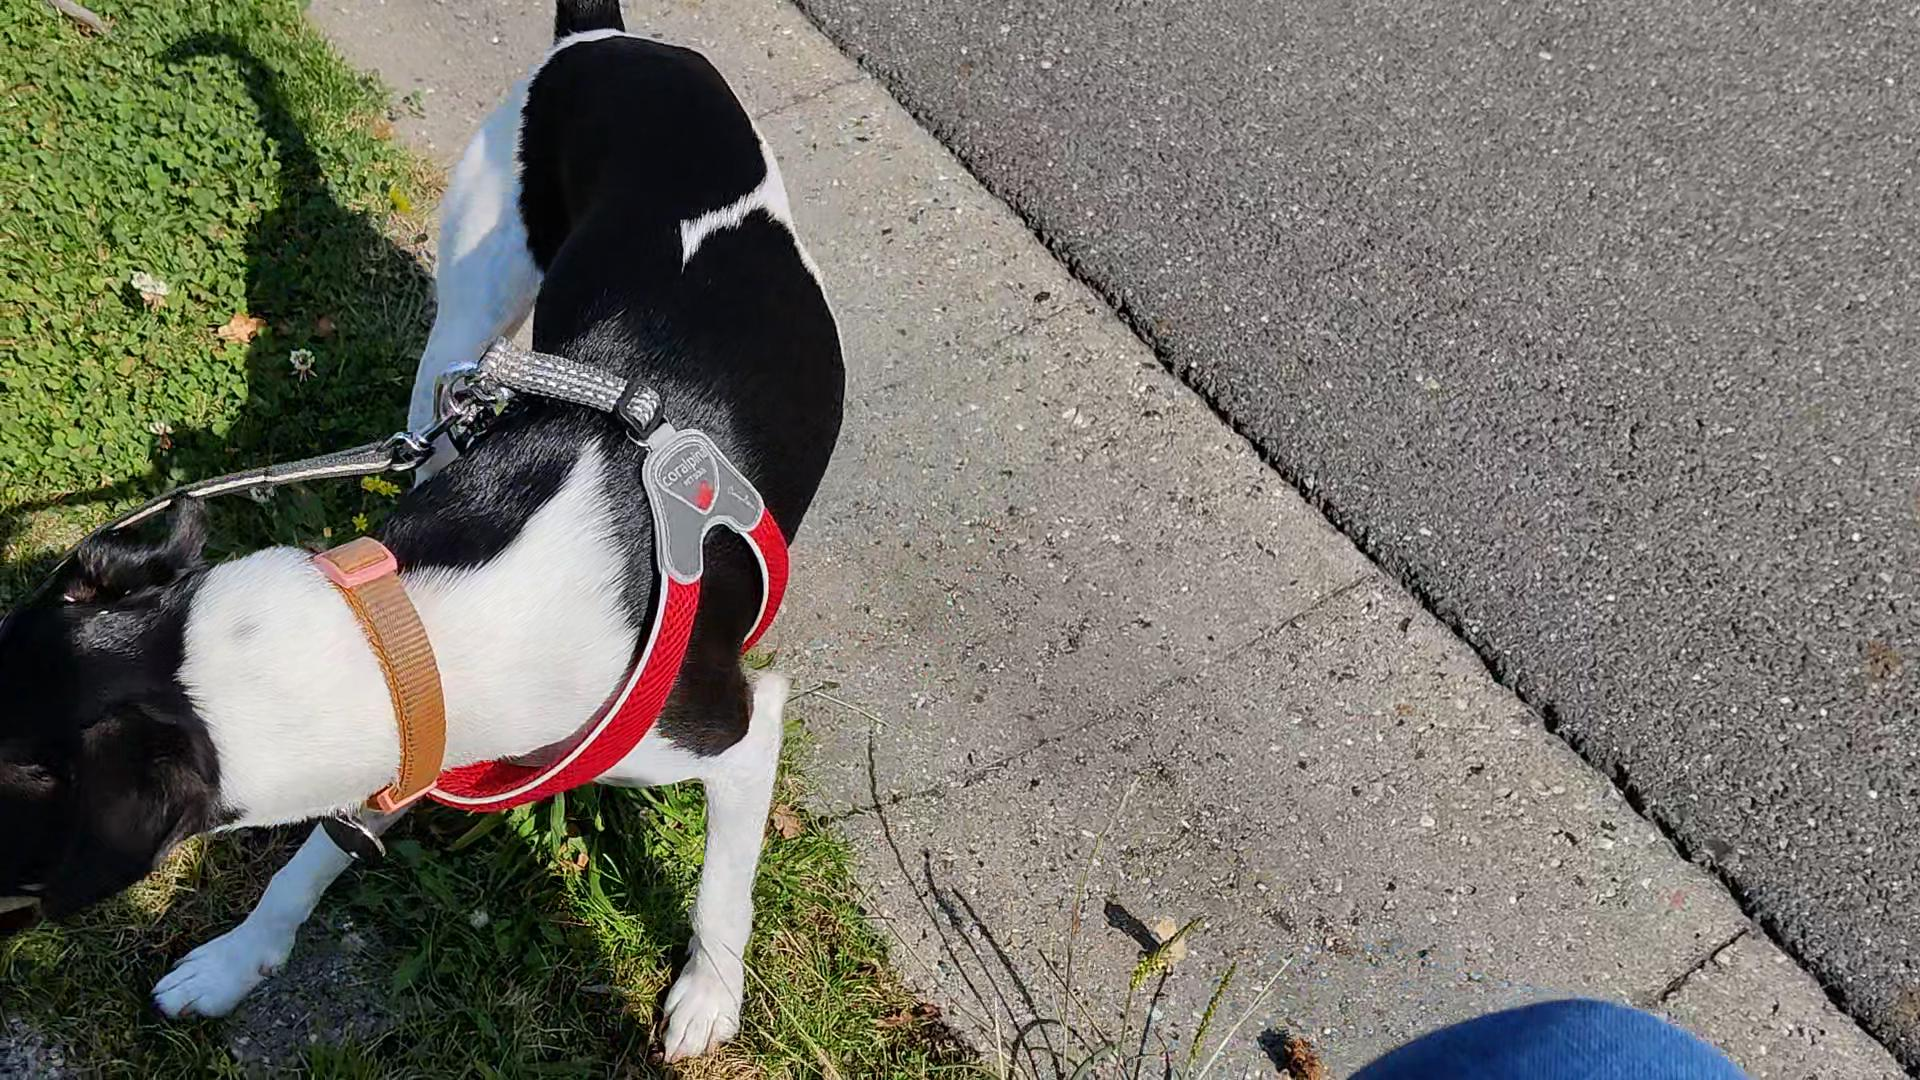Dog: (0, 0, 862, 1069)
